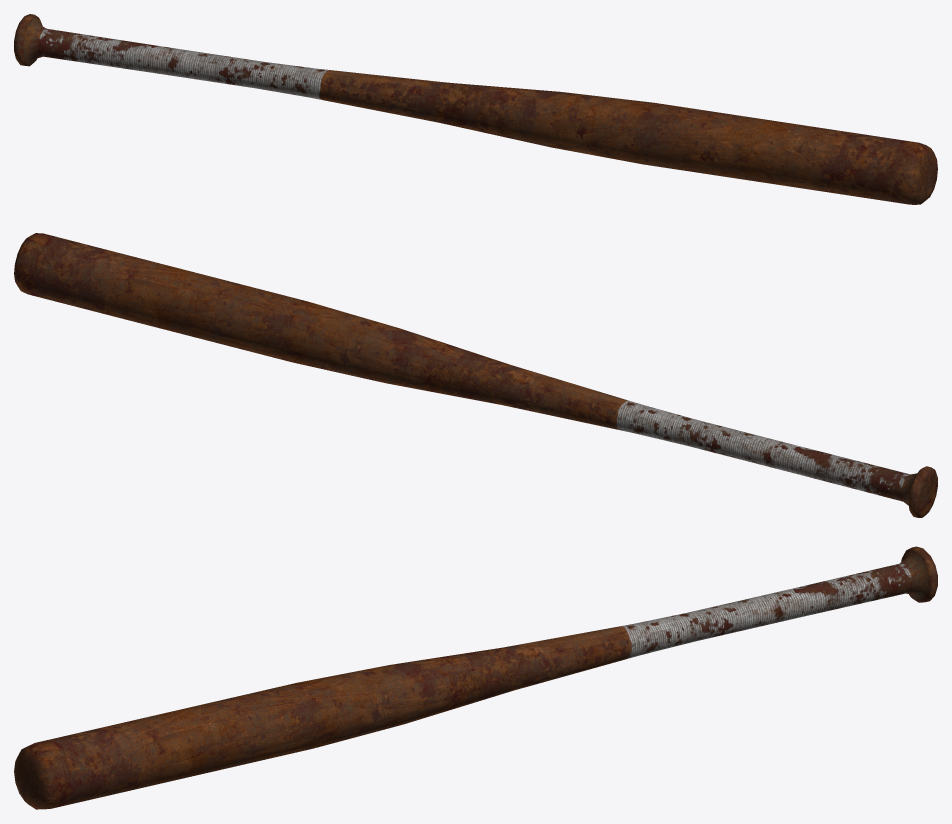
The model's file is Anim_idle_bate_objetos.0019.obj.
3 renders of one model, top to bottom at view 1: azimuth 30°, elevation 25°; view 2: azimuth 210°, elevation 25°; view 3: azimuth 270°, elevation 25°, orthographic. The views are drawn at different scales.
Parts seen in each view (by area): view 1: Bate1; view 2: Bate1; view 3: Bate1.
Part boxes in pixels (x1,y1,x2,y2): Bate1: (14, 14, 937, 204); Bate1: (14, 233, 937, 517); Bate1: (14, 546, 937, 809).
Size of the model in its own units: 3.22 by 0.5811 by 4.55.
